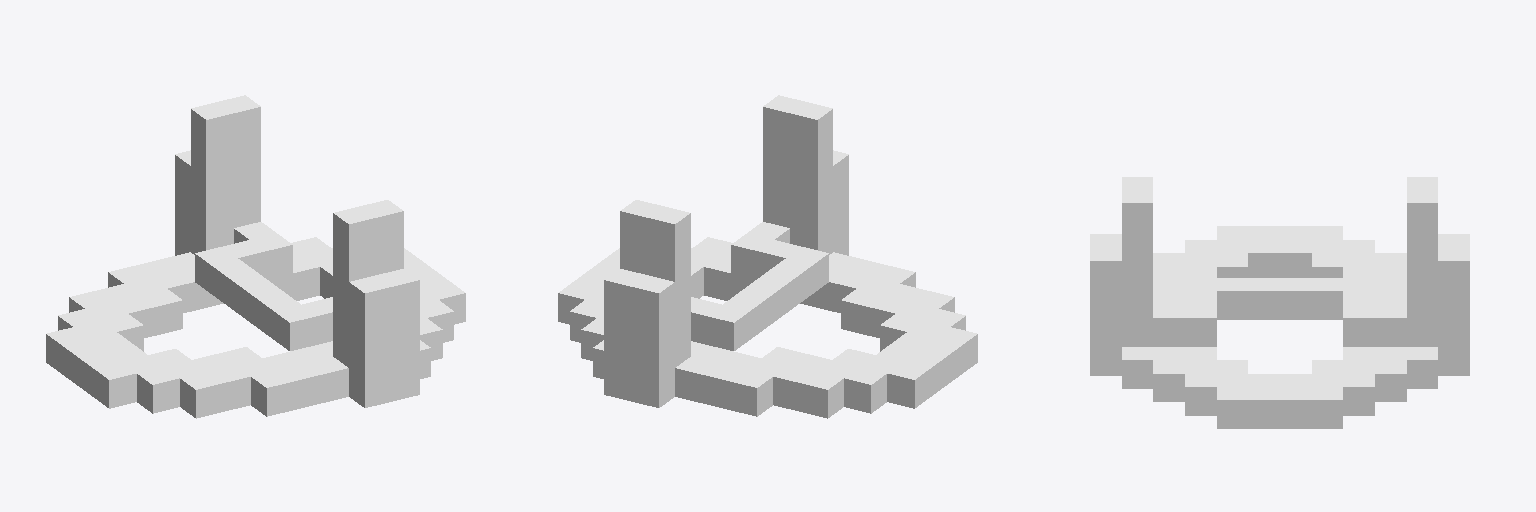
The model's file is SSMLauncherTower.obj.
The picture shows the model from 3 angles: view 1: azimuth 30°, elevation 25°; view 2: azimuth 150°, elevation 25°; view 3: azimuth 270°, elevation 25°; orthographic projection.
Parts seen in each view (by area): view 1: object 1; view 2: object 1; view 3: object 1.
Boxes of the visible parts, <box> form: object 1: <box>46,95,465,418</box>; object 1: <box>558,95,977,418</box>; object 1: <box>1090,177,1469,428</box>.
Bounding box in the file's own units: 1.3 × 0.6 × 1.2.